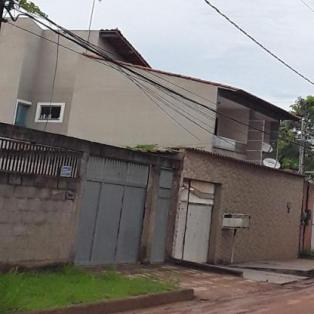Poste: (0, 0, 53, 24)
